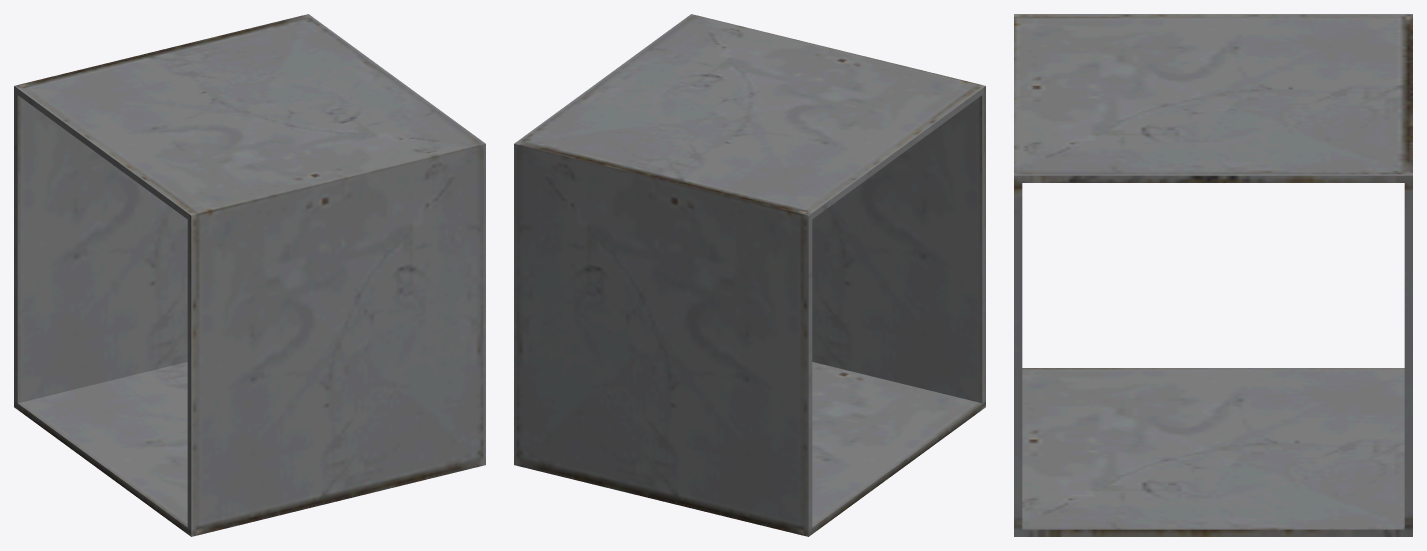
Rendered from Urban_Duct_Model.fbx.
The picture shows the model from 3 angles, left to right: view 1: azimuth 30°, elevation 25°; view 2: azimuth 150°, elevation 25°; view 3: azimuth 270°, elevation 25°; orthographic projection. The views are drawn at different scales.
Parts seen in each view (by area): view 1: Urban_Duct_Mesh; view 2: Urban_Duct_Mesh; view 3: Urban_Duct_Mesh.
Boxes of the visible parts, x1,y1,x2,y2 form: Urban_Duct_Mesh: (14, 14, 485, 536); Urban_Duct_Mesh: (514, 14, 985, 536); Urban_Duct_Mesh: (1014, 14, 1412, 536).
Bounding box in the file's own units: 1 × 1.04 × 1.04.
